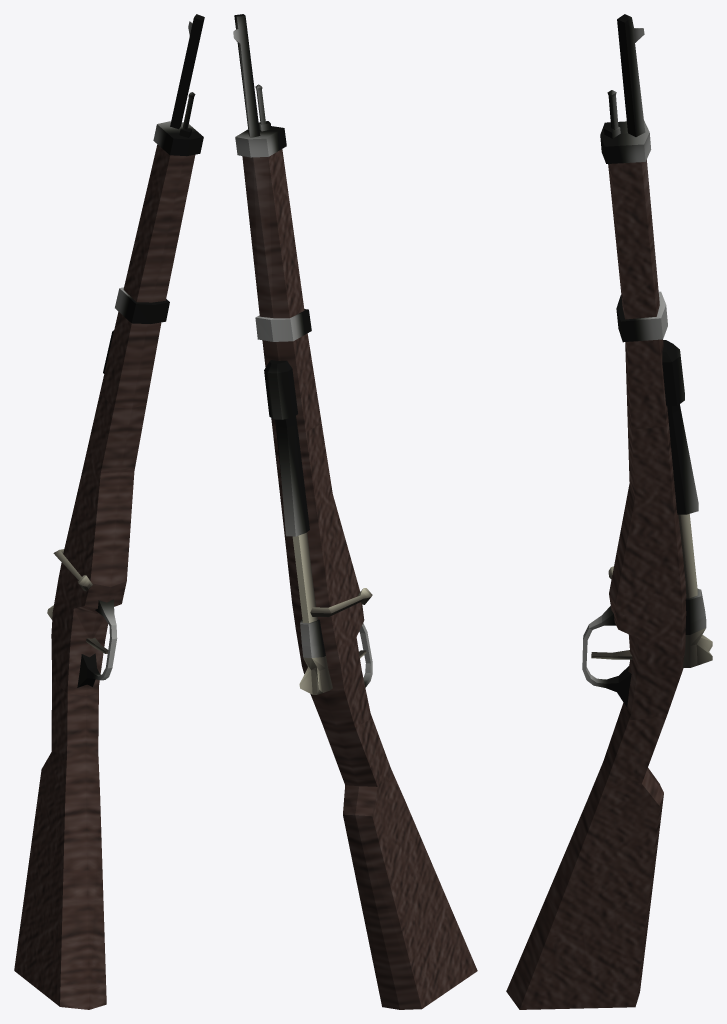
File: gun.obj
The picture shows the model from 3 angles, left to right: view 1: azimuth 30°, elevation 25°; view 2: azimuth 150°, elevation 25°; view 3: azimuth 270°, elevation 25°; orthographic projection. The views are drawn at different scales.
Visible parts, largest first — view 1: Mesh.001_Box01.001; view 2: Mesh.001_Box01.001; view 3: Mesh.001_Box01.001.
Boxes of the visible parts, x1,y1,x2,y2 form: Mesh.001_Box01.001: (14, 14, 204, 1009); Mesh.001_Box01.001: (233, 14, 477, 1009); Mesh.001_Box01.001: (506, 14, 712, 1009).
Size of the model in its own units: 0.3233 by 1.5 by 0.2618.
Materials: 1 (1 with a texture image).
